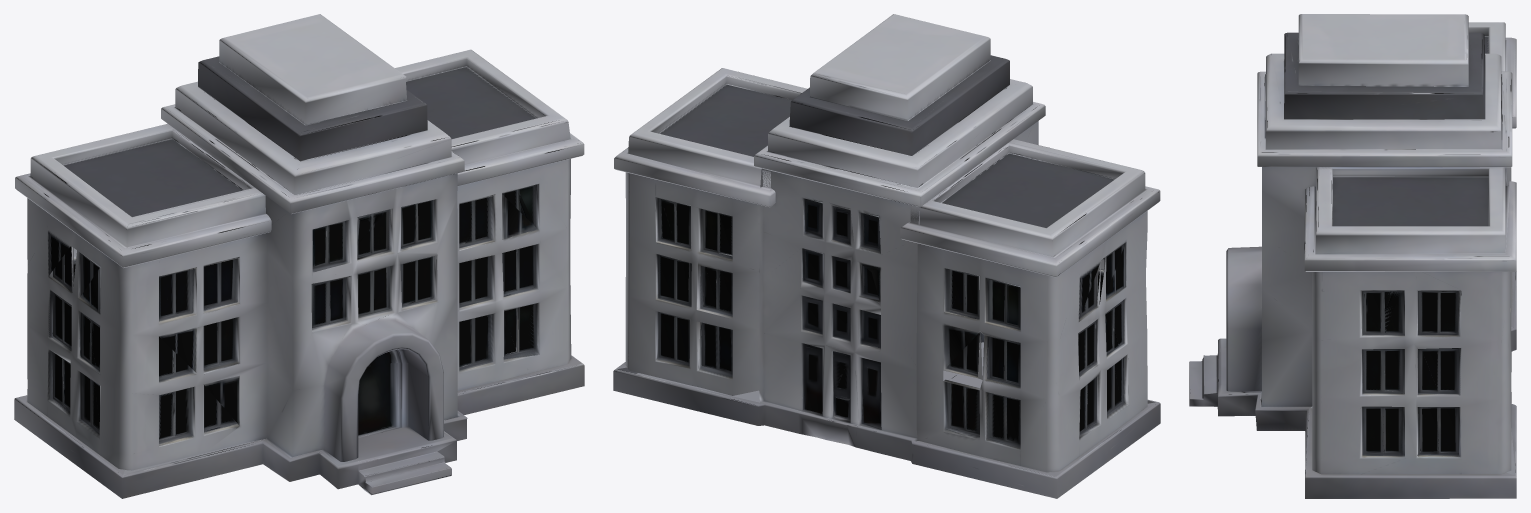
Rendered from 32-university-building.glb.
The picture shows the model from 3 angles, left to right: view 1: azimuth 30°, elevation 25°; view 2: azimuth 150°, elevation 25°; view 3: azimuth 270°, elevation 25°; orthographic projection. The views are drawn at different scales.
Visible parts, largest first — view 1: geometry_0; view 2: geometry_0; view 3: geometry_0.
Boxes of the visible parts, x1,y1,x2,y2 form: geometry_0: [14, 14, 584, 498]; geometry_0: [613, 14, 1160, 498]; geometry_0: [1189, 14, 1516, 498].
Size of the model in its own units: 0.9497 by 0.7021 by 0.5933.
1 material, 1 textured.
